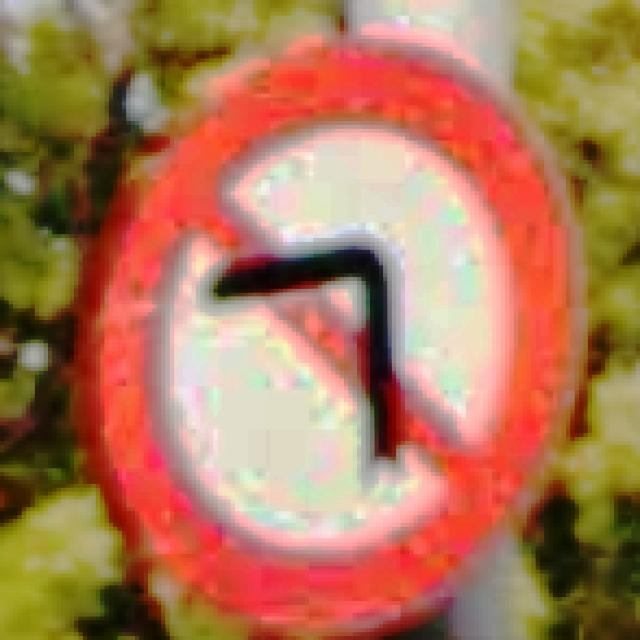noturnleft: (74, 27, 588, 636)
